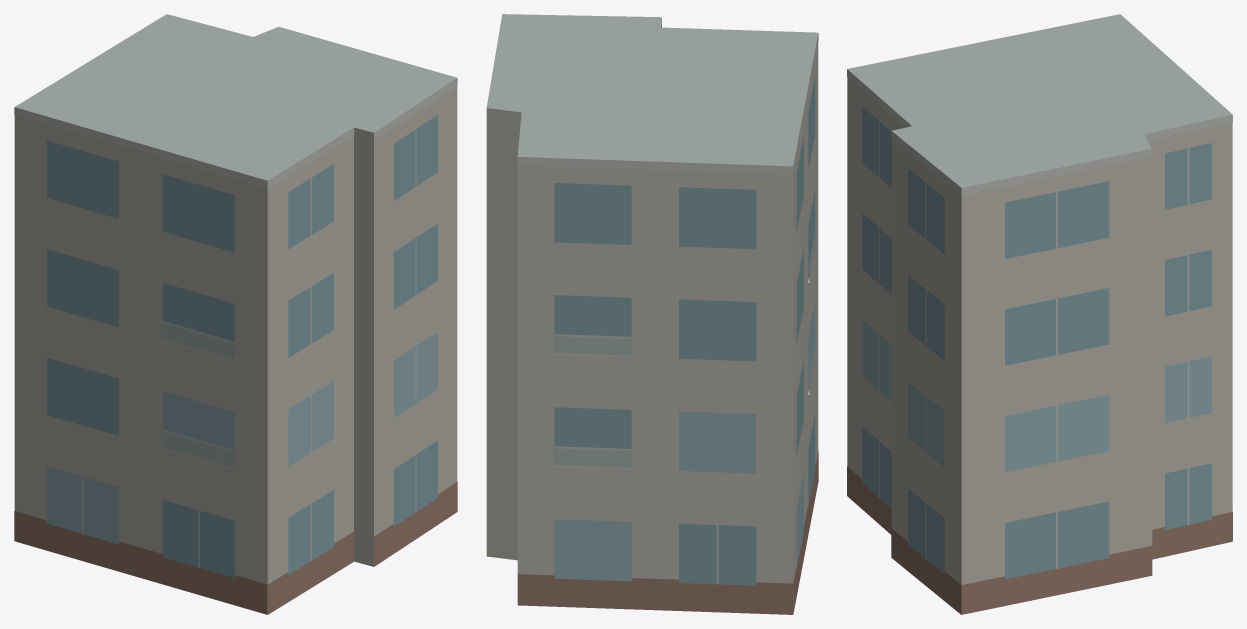
Rendered from survey-upis-32683813.glb.
3 views of the same model, side by side, from view 1: azimuth 30°, elevation 25°; view 2: azimuth 150°, elevation 25°; view 3: azimuth 270°, elevation 25° (orthographic). The views are drawn at different scales.
Parts seen in each view (by area): view 1: survey-upis-32683813.tmp; view 2: survey-upis-32683813.tmp; view 3: survey-upis-32683813.tmp.
Boxes of the visible parts, box(x1,y1,x2,y2) form: survey-upis-32683813.tmp: box(14, 14, 457, 614); survey-upis-32683813.tmp: box(486, 14, 818, 614); survey-upis-32683813.tmp: box(847, 14, 1232, 614).
Bounding box in the file's own units: 11.58 × 13.25 × 10.86.
